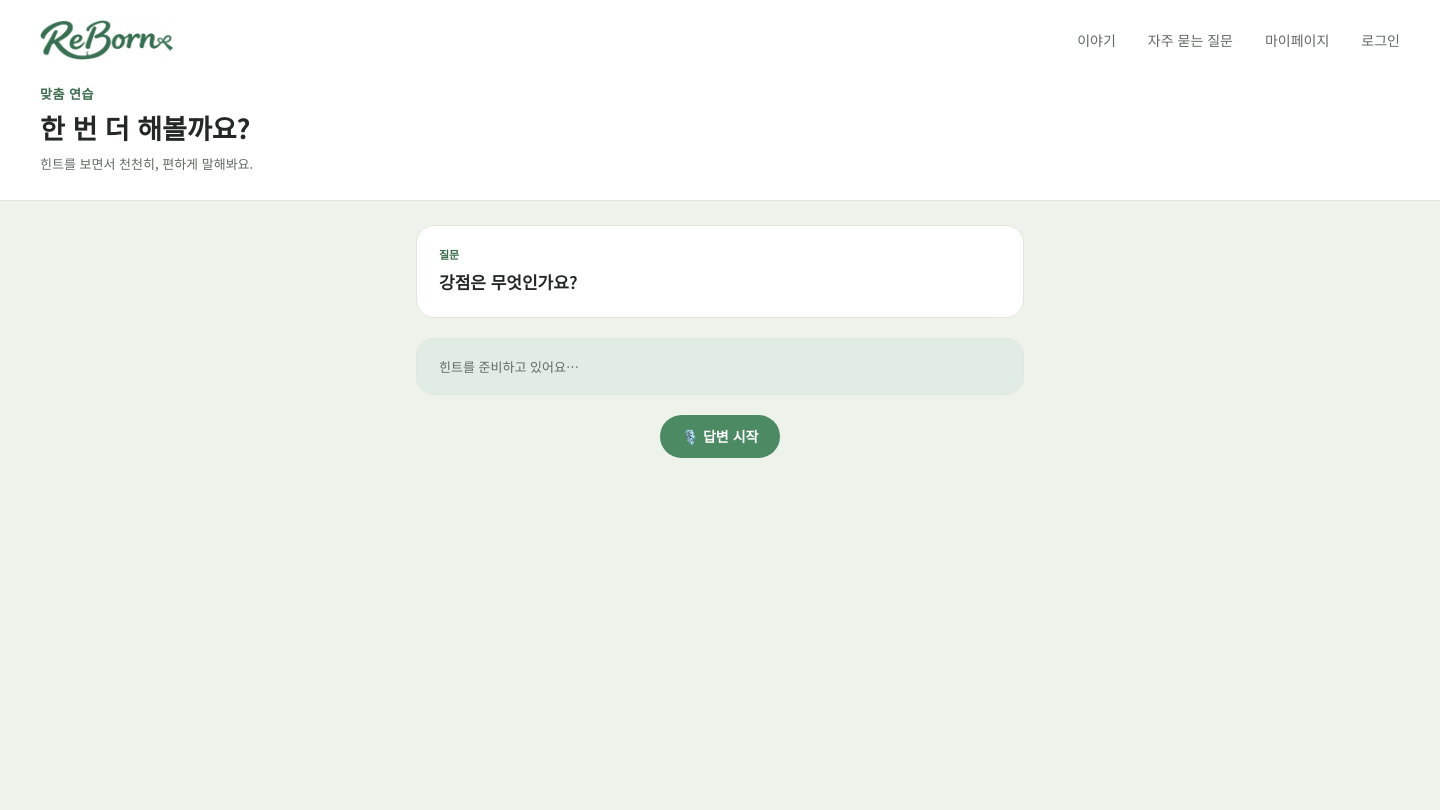
Test: PracticePage › 말로 답하기 (음성 인식 가능) › 내용이 비어 있으면 제출할 수 없다
What coordinates should you click on to do the following:
click the button "🎙️ 답변 시작"
I would click on:
 (720, 437)
Its box is [660, 415, 780, 458].
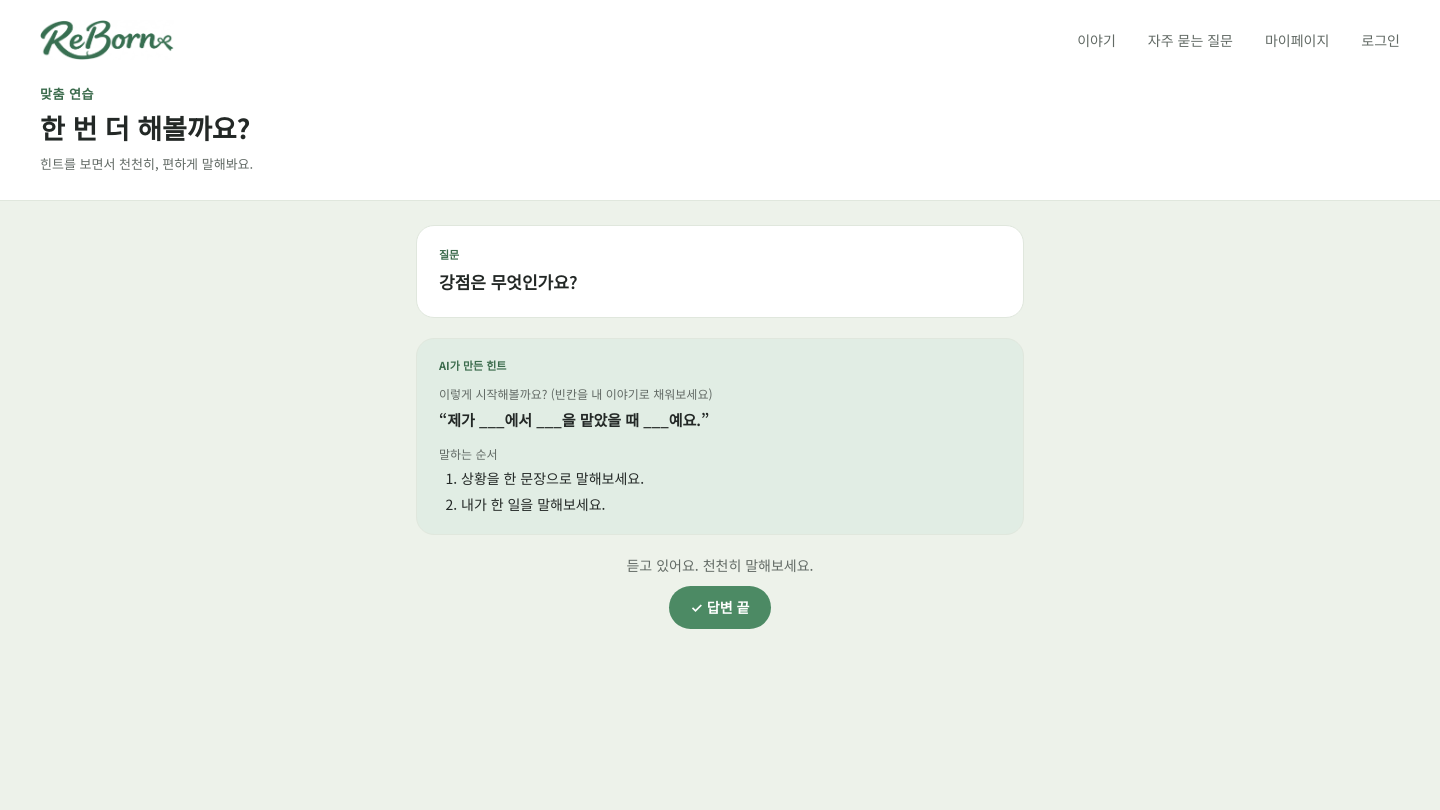
What coordinates should you click on to do the following:
click the button "✓ 답변 끝"
I would click on:
 (720, 607)
Its box is [669, 586, 771, 629].
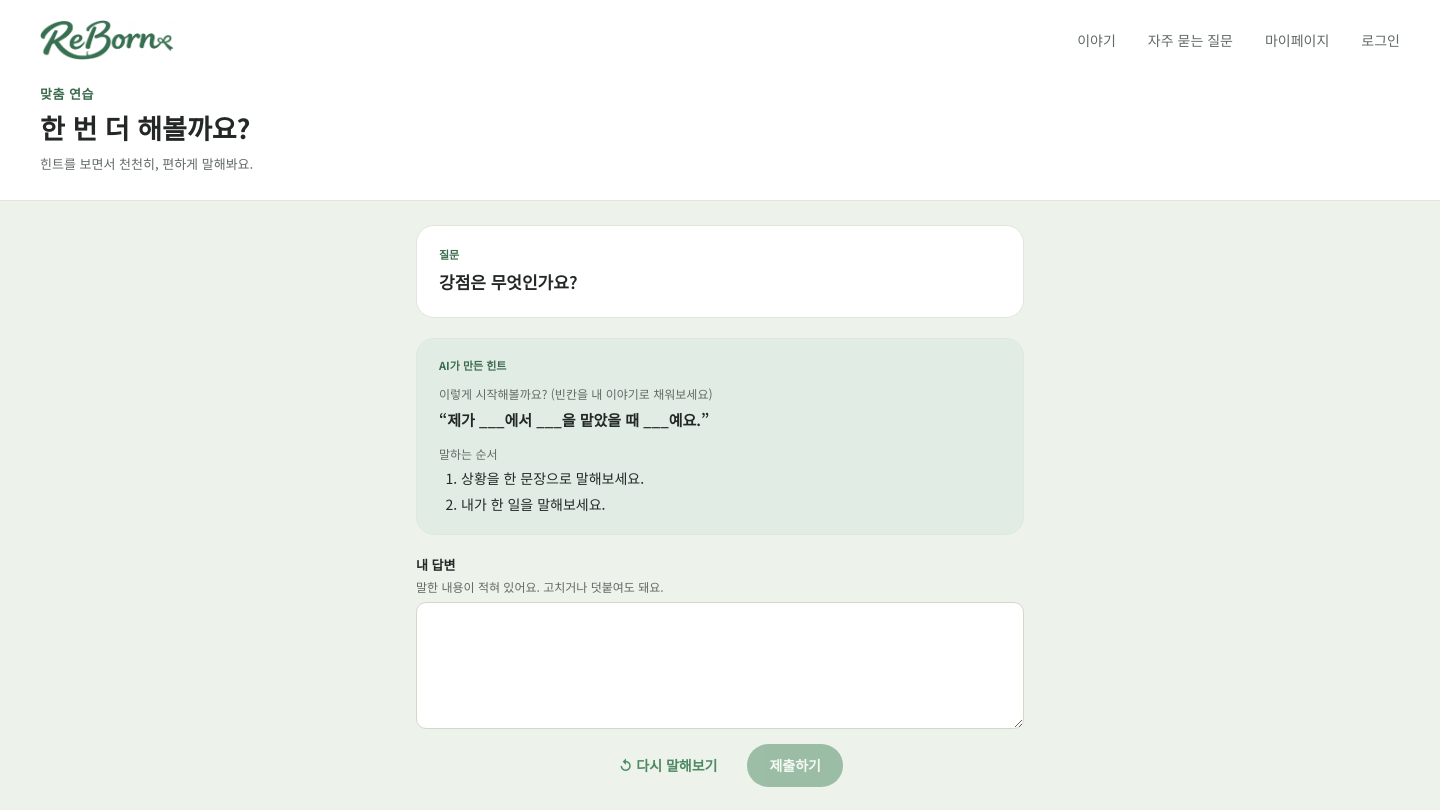
Now the button "제출하기" is disabled, box [748, 744, 843, 787]
